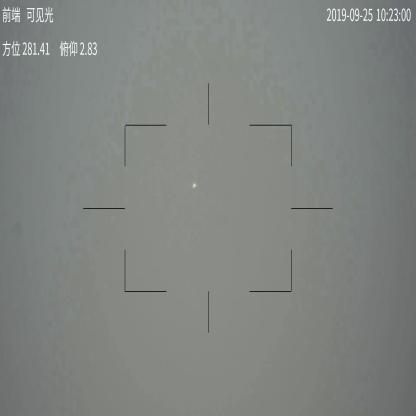uav: (192, 181, 198, 188)
